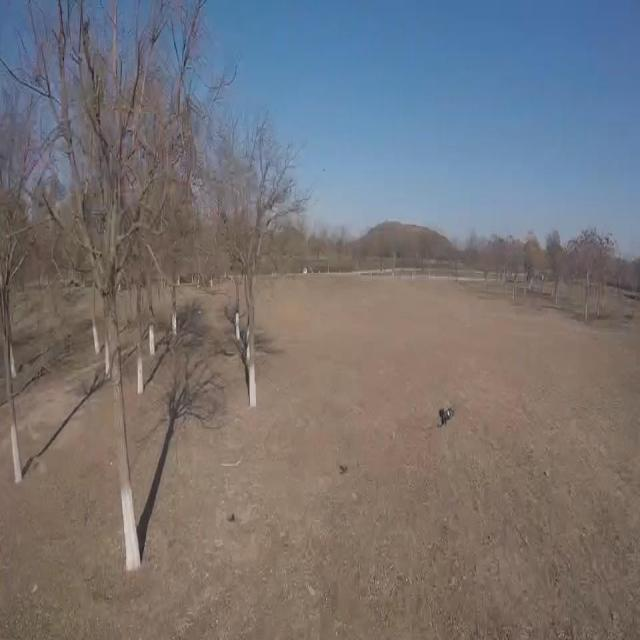drone: (427, 389, 457, 435)
